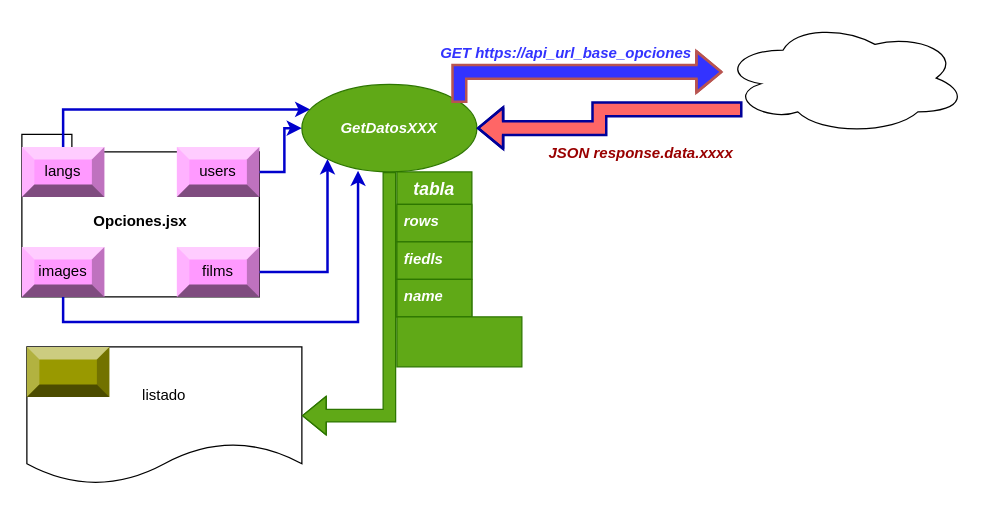
This 989x506 diagram has some shape labels left out. The shapes that lost their labels are listed below. From the top down, each one's centre as x and y in pixels, then its label:
At (844,77): "Cloud".
At (459,341): "visible=false".
At (67,371): "close".
